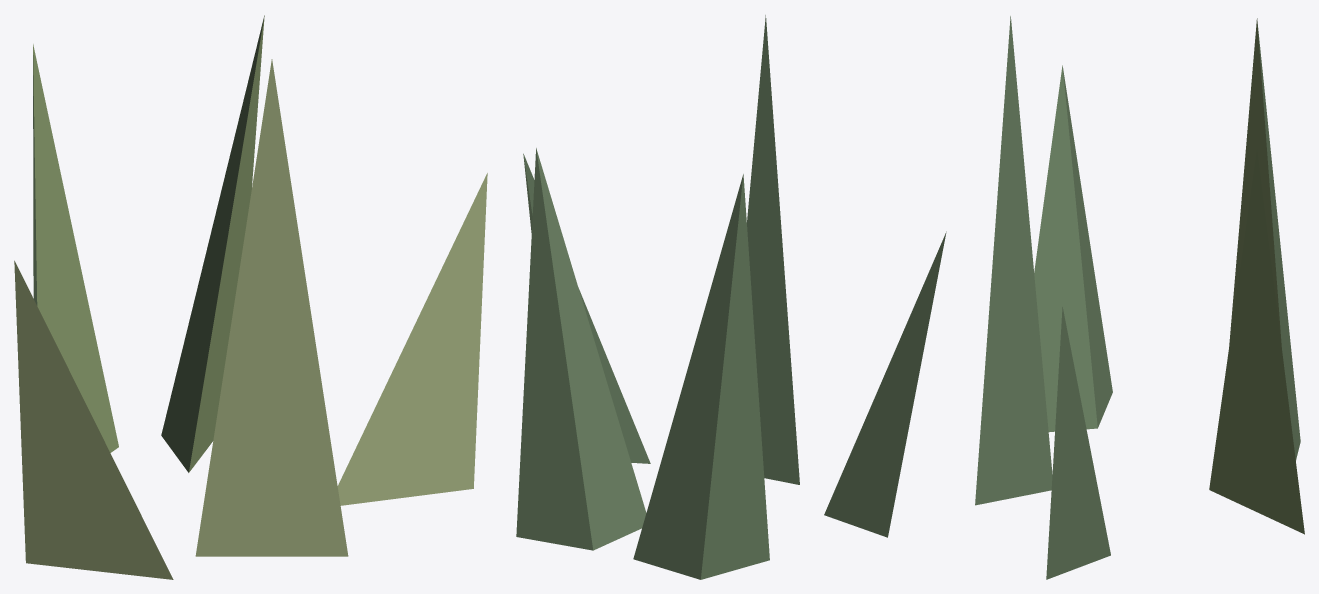
File: grass_tuft_a.fbx
3 renders of one model, left to right at view 1: azimuth 30°, elevation 25°; view 2: azimuth 150°, elevation 25°; view 3: azimuth 270°, elevation 25°, orthographic. The views are drawn at different scales.
Parts seen in each view (by area): view 1: grass_tuft_a; view 2: grass_tuft_a; view 3: grass_tuft_a.
Boxes of the visible parts, <box> form: grass_tuft_a: <box>14,15,487,579</box>; grass_tuft_a: <box>516,15,946,579</box>; grass_tuft_a: <box>975,16,1304,579</box>.
Size of the model in its own units: 0.1966 by 0.198 by 0.1272.
